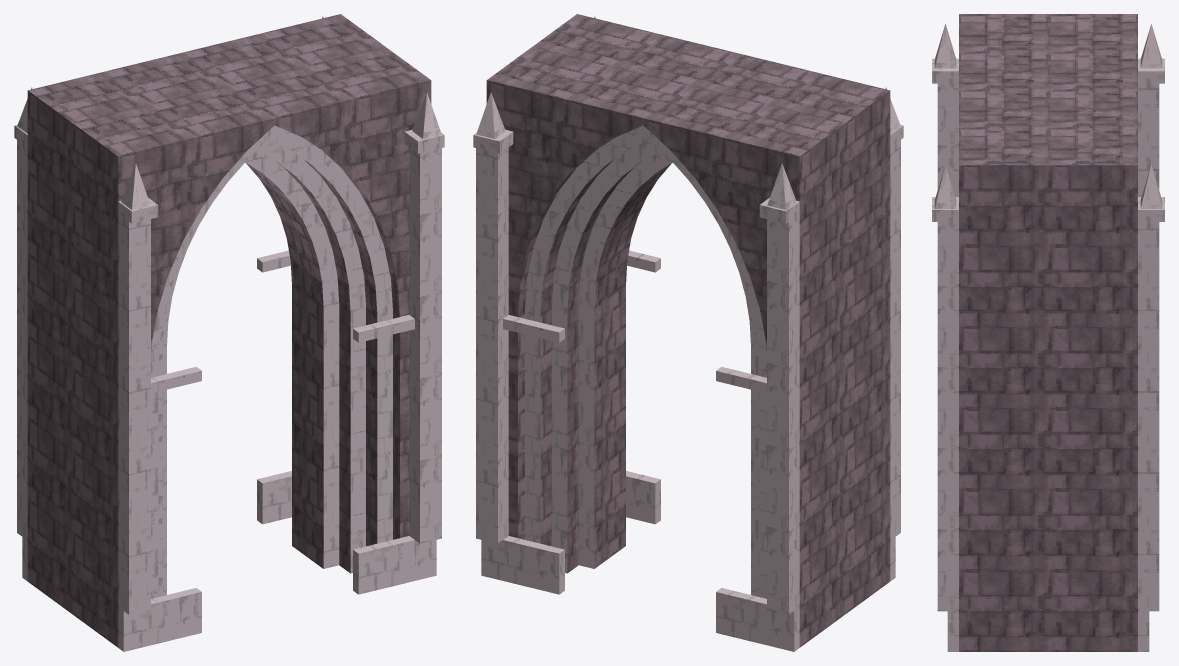
Rendered from door_frame_boss_a.glb.
3 views of the same model, side by side, from view 1: azimuth 30°, elevation 25°; view 2: azimuth 150°, elevation 25°; view 3: azimuth 270°, elevation 25° (orthographic).
Visible parts, largest first — view 1: portal_front, portal_back; view 2: portal_back, portal_front; view 3: portal_back, portal_front.
Part boxes in pixels (box(x1,y1,x2,y2)): portal_front: box(73, 47, 444, 651); portal_back: box(14, 14, 385, 614); portal_back: box(473, 47, 844, 651); portal_front: box(532, 14, 903, 614); portal_back: box(1048, 14, 1164, 651); portal_front: box(932, 14, 1048, 651).
Size of the model in its own units: 4 by 6 by 2.6.
Materials: 1 (1 with a texture image).
